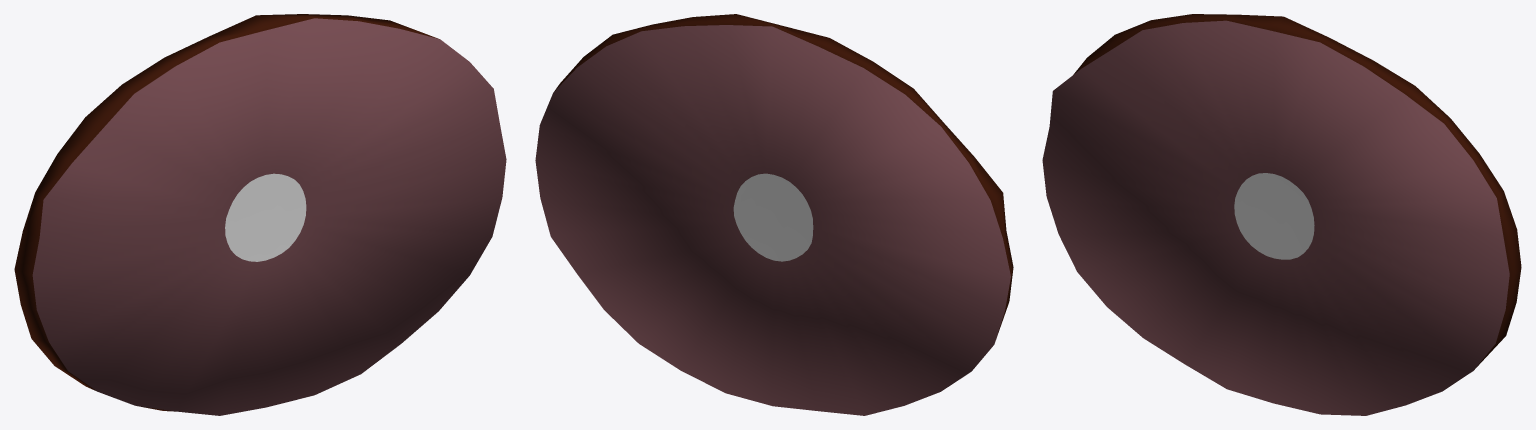
The model's file is cutBurntPork.fbx.
3 renders of one model, left to right at view 1: azimuth 30°, elevation 25°; view 2: azimuth 150°, elevation 25°; view 3: azimuth 330°, elevation 25°, orthographic.
Parts seen in each view (by area): view 1: Cylinder.005; view 2: Cylinder.005; view 3: Cylinder.005.
Part boxes in pixels (bbox=[...]): Cylinder.005: bbox=[14, 14, 506, 415]; Cylinder.005: bbox=[535, 14, 1013, 415]; Cylinder.005: bbox=[1042, 14, 1521, 415].
Size of the model in its own units: 94.04 by 71.76 by 3.63.
